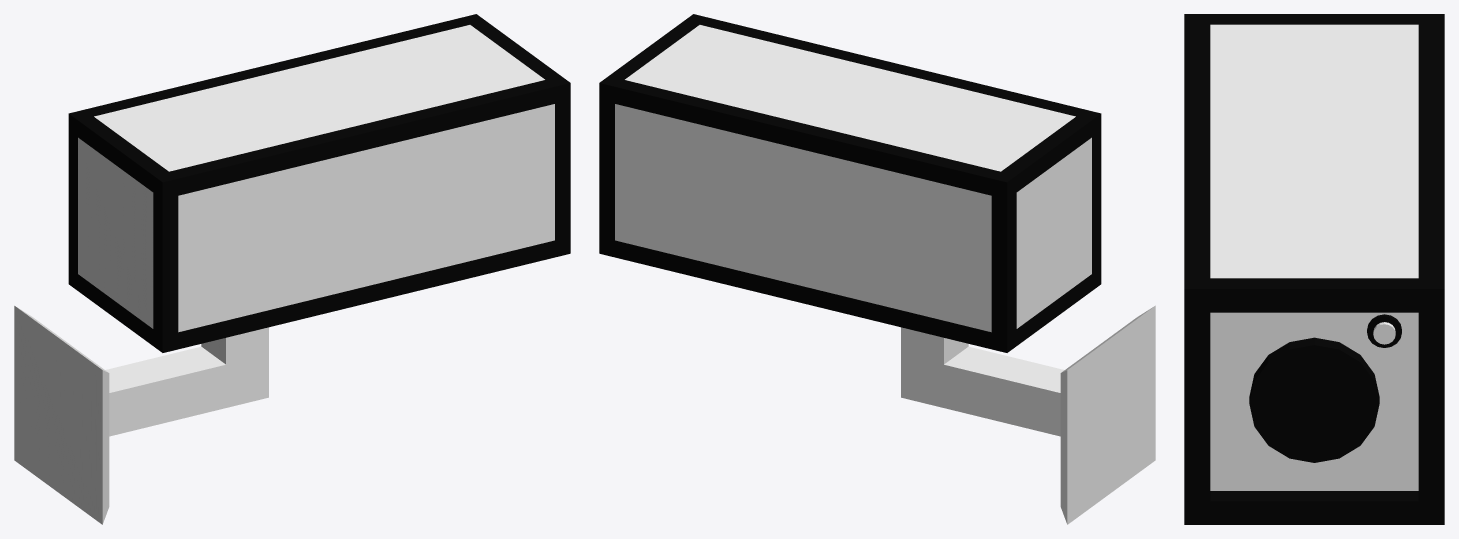
File: camera.fbx
3 views of the same model, side by side, from view 1: azimuth 30°, elevation 25°; view 2: azimuth 150°, elevation 25°; view 3: azimuth 270°, elevation 25° (orthographic). The views are drawn at different scales.
Visible parts, largest first — view 1: Body, Arm; view 2: Body, Arm; view 3: Body, Lens, LedBorder, Led.
Part boxes in pixels (x1,y1,x2,y2): Body: [68, 14, 570, 352]; Arm: [14, 305, 268, 524]; Body: [599, 14, 1101, 352]; Arm: [901, 305, 1155, 524]; Body: [1184, 14, 1444, 524]; Lens: [1249, 337, 1379, 462]; LedBorder: [1367, 314, 1401, 347]; Led: [1373, 322, 1395, 344].
Size of the model in its own units: 40 by 77.48 by 114.
